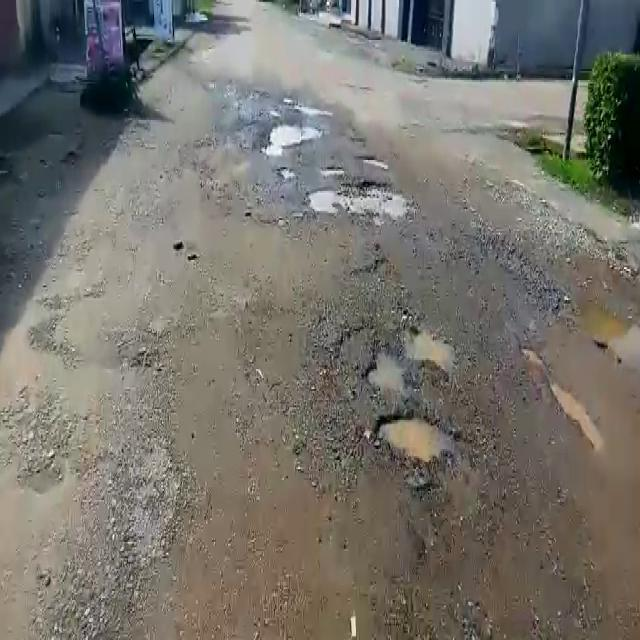pothole: (364, 318, 457, 391), (373, 408, 454, 465), (308, 178, 415, 221), (256, 119, 317, 155), (287, 101, 328, 119), (355, 153, 390, 167)
